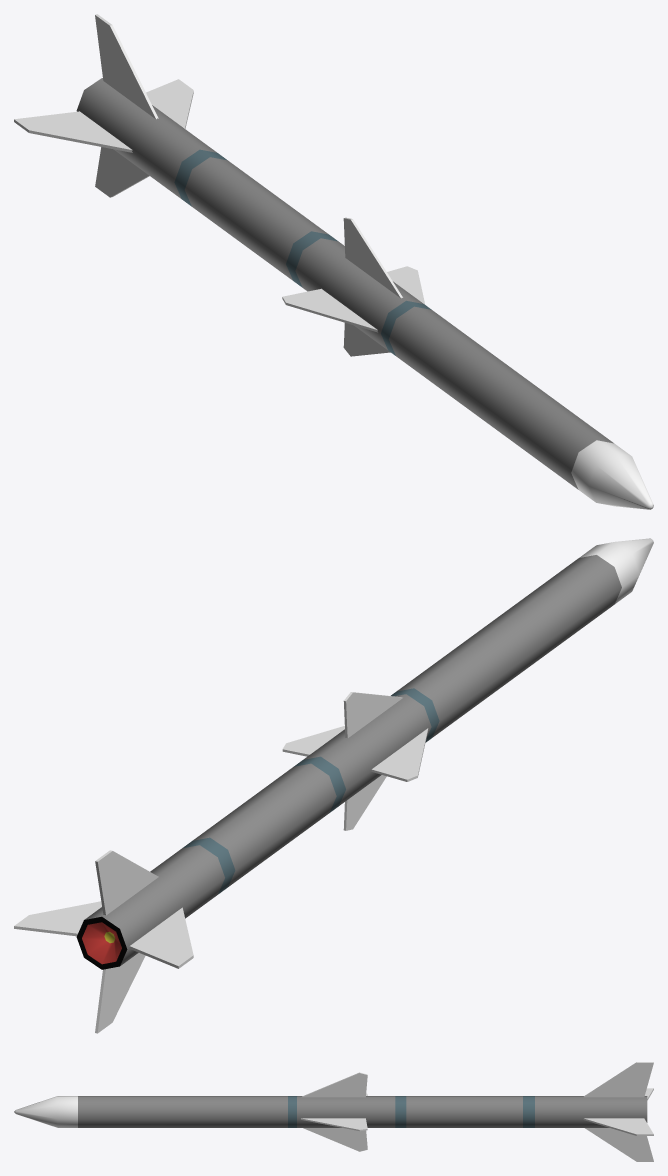
The model's file is AIM120-Amraam.glb.
3 renders of one model, top to bottom at view 1: azimuth 30°, elevation 25°; view 2: azimuth 150°, elevation 25°; view 3: azimuth 270°, elevation 25°, orthographic. The views are drawn at different scales.
Parts seen in each view (by area): view 1: AIM-120 Amraam.001, RearFin.002, RearFin.003, RearFin, FrontFin.001, FrontFin.002, RearFin.001, FrontFin.003, FrontFin; view 2: AIM-120 Amraam.001, RearFin.002, RearFin.003, RearFin, RearFin.001, FrontFin.001, FrontFin.002, FrontFin.003, FrontFin; view 3: AIM-120 Amraam.001, RearFin.002, RearFin, FrontFin.001, FrontFin.003, RearFin.001, FrontFin.
Boxes of the visible parts, x1=… form: AIM-120 Amraam.001: x1=76, y1=78, x2=653, y2=509; RearFin.002: x1=95, y1=14, x2=158, y2=119; RearFin.003: x1=14, y1=111, x2=132, y2=152; RearFin: x1=95, y1=147, x2=149, y2=197; FrontFin.001: x1=343, y1=217, x2=402, y2=298; FrontFin.002: x1=282, y1=288, x2=377, y2=332; RearFin.001: x1=146, y1=79, x2=193, y2=128; FrontFin.003: x1=343, y1=323, x2=390, y2=356; FrontFin: x1=387, y1=266, x2=425, y2=304; AIM-120 Amraam.001: x1=76, y1=538, x2=653, y2=969; RearFin.002: x1=95, y1=850, x2=158, y2=915; RearFin.003: x1=129, y1=907, x2=193, y2=968; RearFin: x1=95, y1=953, x2=145, y2=1033; RearFin.001: x1=14, y1=901, x2=101, y2=936; FrontFin.001: x1=343, y1=692, x2=402, y2=738; FrontFin.002: x1=371, y1=728, x2=428, y2=781; FrontFin.003: x1=343, y1=775, x2=386, y2=830; FrontFin: x1=282, y1=726, x2=344, y2=756; AIM-120 Amraam.001: x1=14, y1=1096, x2=647, y2=1127; RearFin.002: x1=583, y1=1062, x2=653, y2=1097; RearFin: x1=585, y1=1128, x2=653, y2=1161; FrontFin.001: x1=302, y1=1072, x2=367, y2=1097; FrontFin.003: x1=303, y1=1128, x2=367, y2=1151; RearFin.001: x1=583, y1=1118, x2=653, y2=1135; FrontFin: x1=301, y1=1118, x2=367, y2=1131.
Bounding box in the file's own units: 0.6218 × 0.6202 × 3.63.
